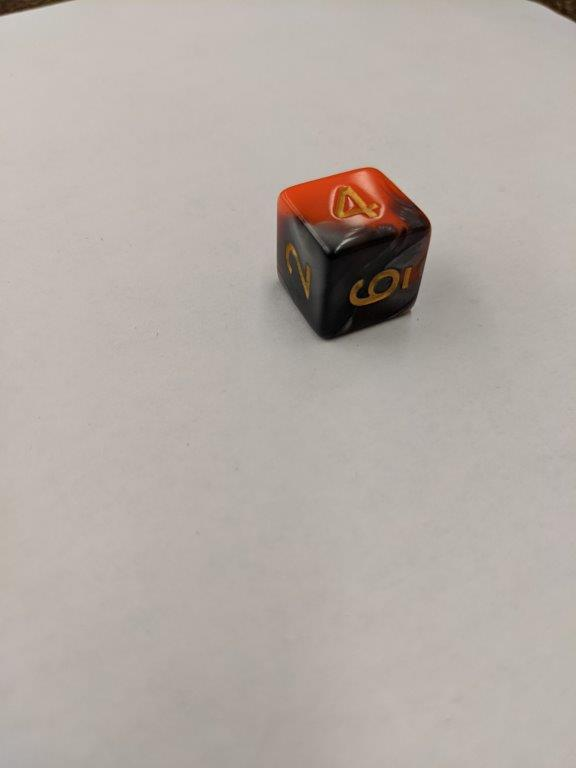d6-4: (274, 165, 432, 343)
